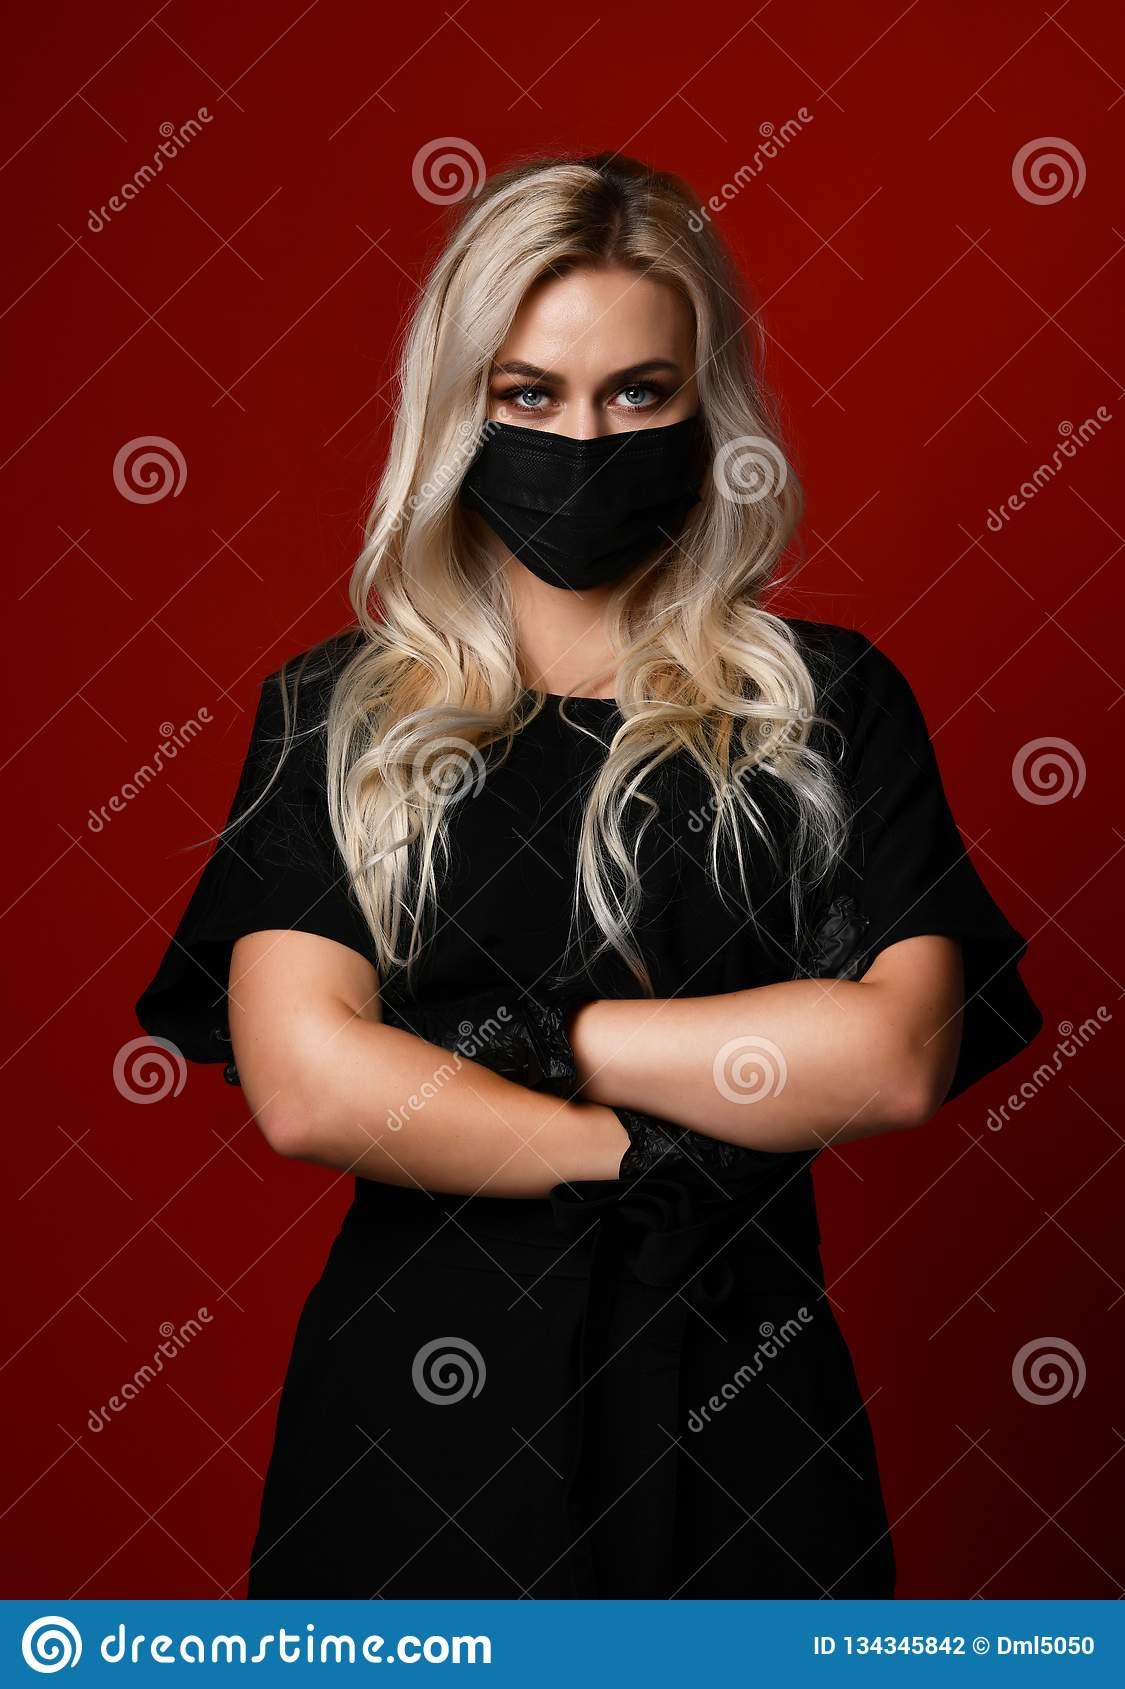mask: (457, 406, 736, 612)
